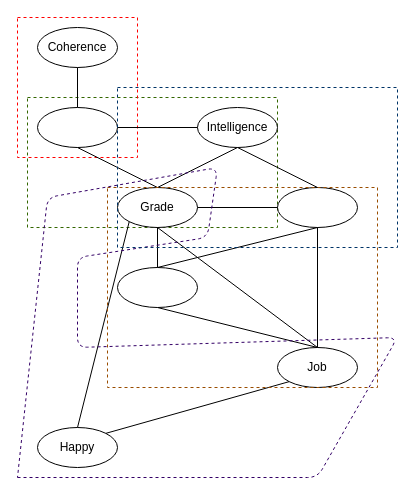
The diagram is 416 pixels wide and 496 high, and some of its shapes have lost their labels. The shapes that lost their labels are listed below. From the top down, each one's centre as x and y in pixels, then its label:
At point (77, 127): "Difficulty".
At point (317, 207): "SAT".
At point (157, 287): "Letter".
